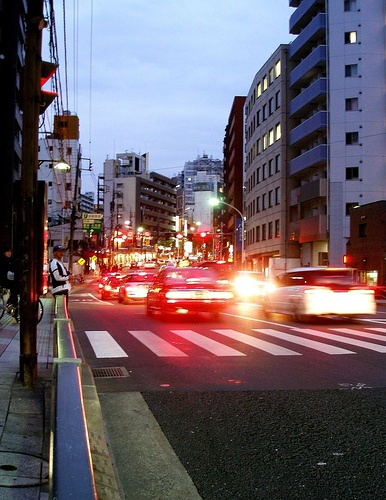non-vehicle: (0, 292, 19, 321), (37, 298, 45, 323)
